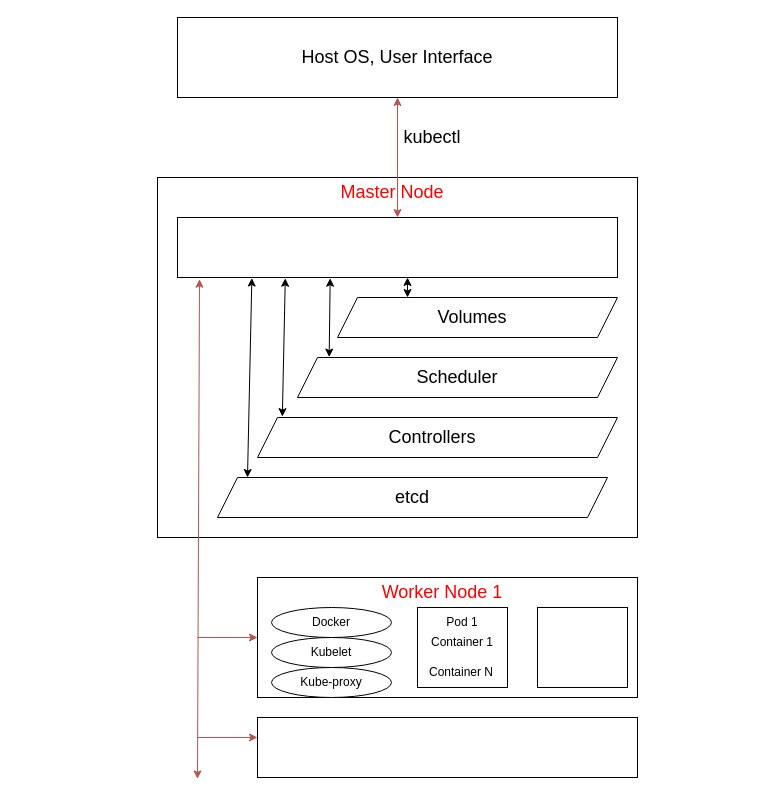
This 784x806 diagram has some shape labels left out. Here are the shapes that lost their labels. From the top down, the centre of each, then its label:
At point (397, 247): "Kube API Server".
At point (582, 647): "Pod N".
At point (447, 747): "Worker Node N".
